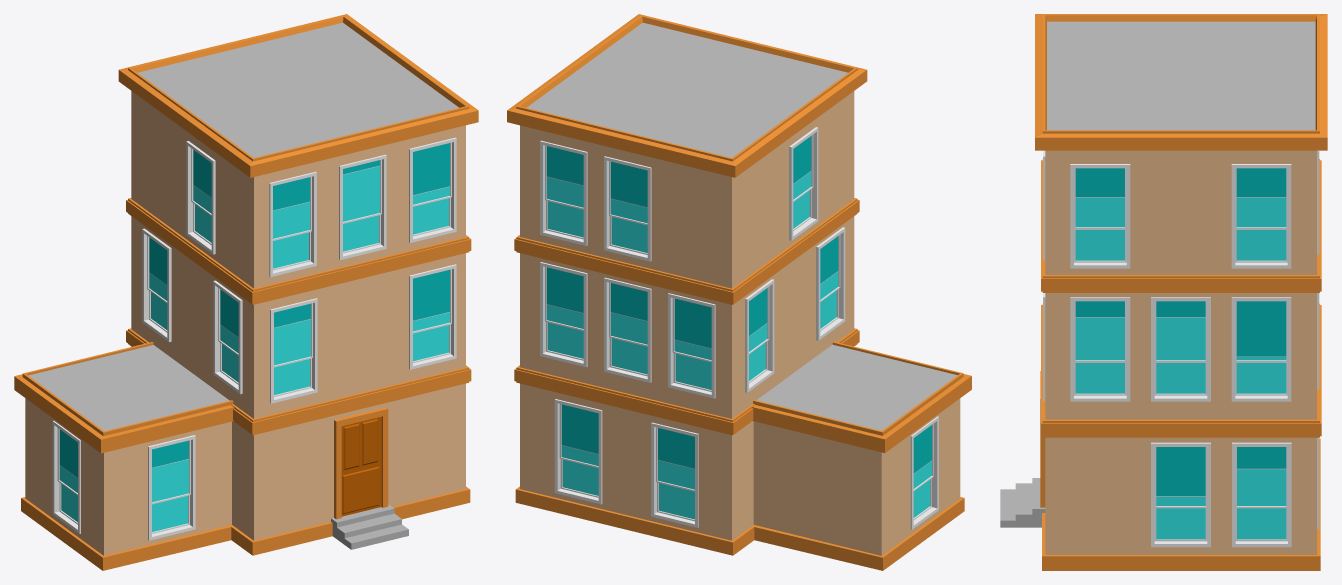
The model's file is SM_House_03_02.FBX.
3 views of the same model, side by side, from view 1: azimuth 30°, elevation 25°; view 2: azimuth 150°, elevation 25°; view 3: azimuth 270°, elevation 25° (orthographic). The views are drawn at different scales.
Visible parts, largest first — view 1: SM_House_03_02; view 2: SM_House_03_02; view 3: SM_House_03_02.
Boxes of the visible parts, <box> form: SM_House_03_02: <box>14,14,478,570</box>; SM_House_03_02: <box>507,14,971,570</box>; SM_House_03_02: <box>1000,14,1327,570</box>.
Size of the model in its own units: 6.7 by 7.14 by 4.81.
Materials: 1 (1 with a texture image).
